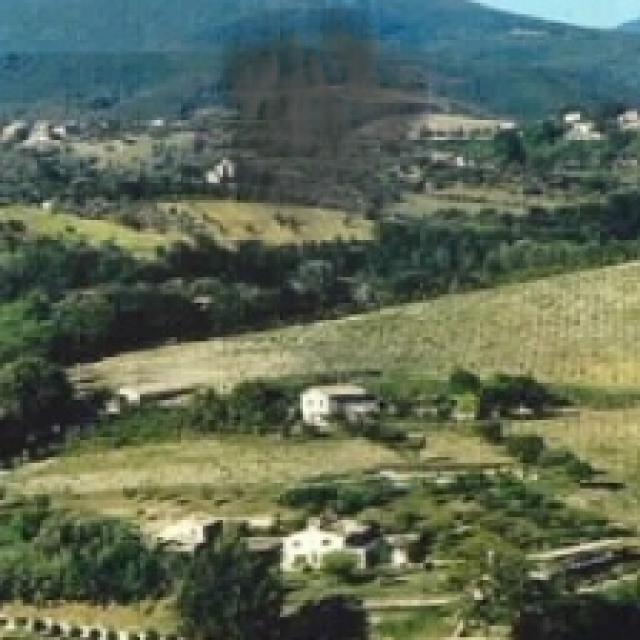Smoke: (208, 8, 428, 255)
